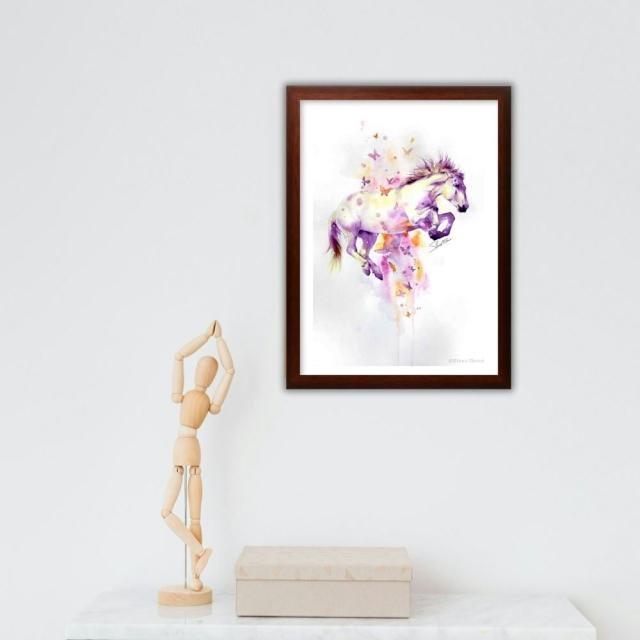painting: (285, 82, 512, 389)
